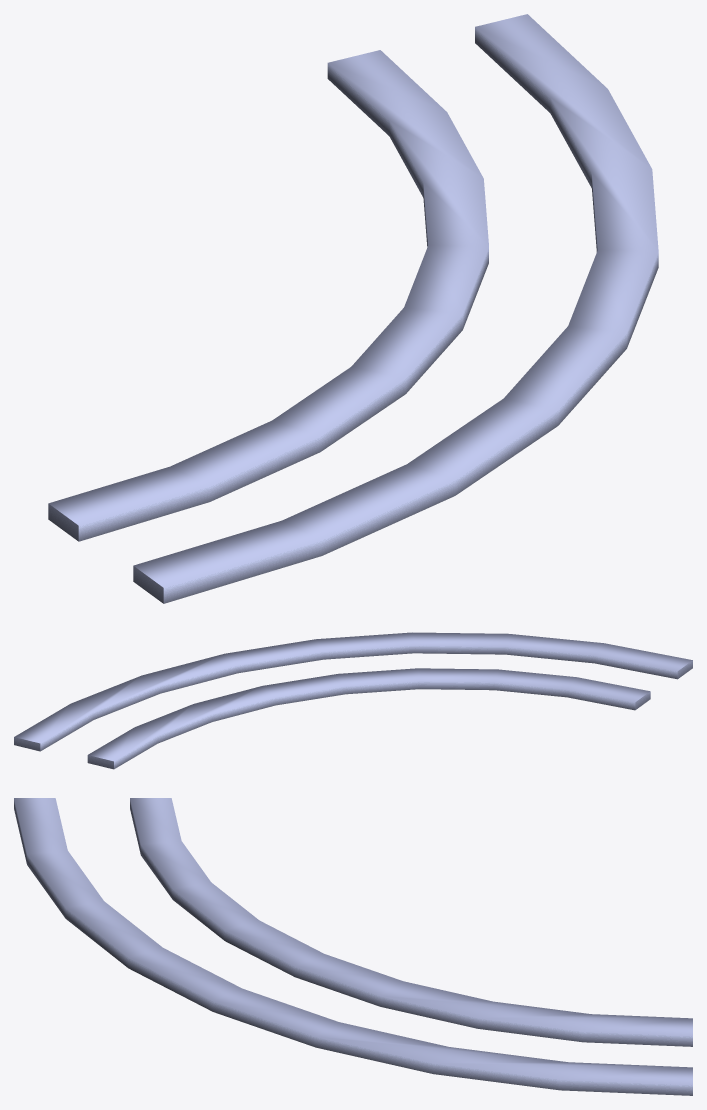
File: trainset-rail-bend.glb
The picture shows the model from 3 angles, top to bottom: view 1: azimuth 30°, elevation 25°; view 2: azimuth 150°, elevation 25°; view 3: azimuth 270°, elevation 25°; orthographic projection. The views are drawn at different scales.
Parts seen in each view (by area): view 1: trainset-rail-bend; view 2: trainset-rail-bend; view 3: trainset-rail-bend.
Part boxes in pixels (left/top/right/bottom): trainset-rail-bend: left=48, top=14, right=658, bottom=603; trainset-rail-bend: left=14, top=632, right=692, bottom=769; trainset-rail-bend: left=14, top=798, right=692, bottom=1095.
Bounding box in the file's own units: 2.55 × 0.0454 × 2.55.
1 material, 1 textured.
